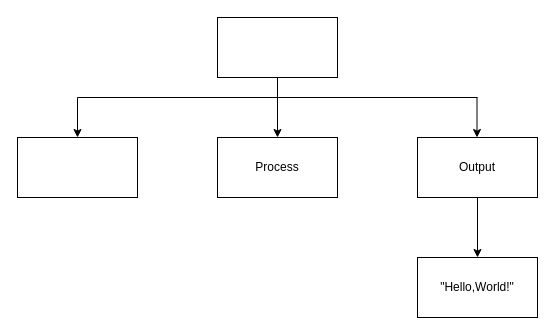
The diagram is 555 pixels wide and 335 high, and some of its shapes have lost their labels. Each missing label, with the centre of its shape:
Hello_World: point (277, 47)
Input: point (77, 167)
